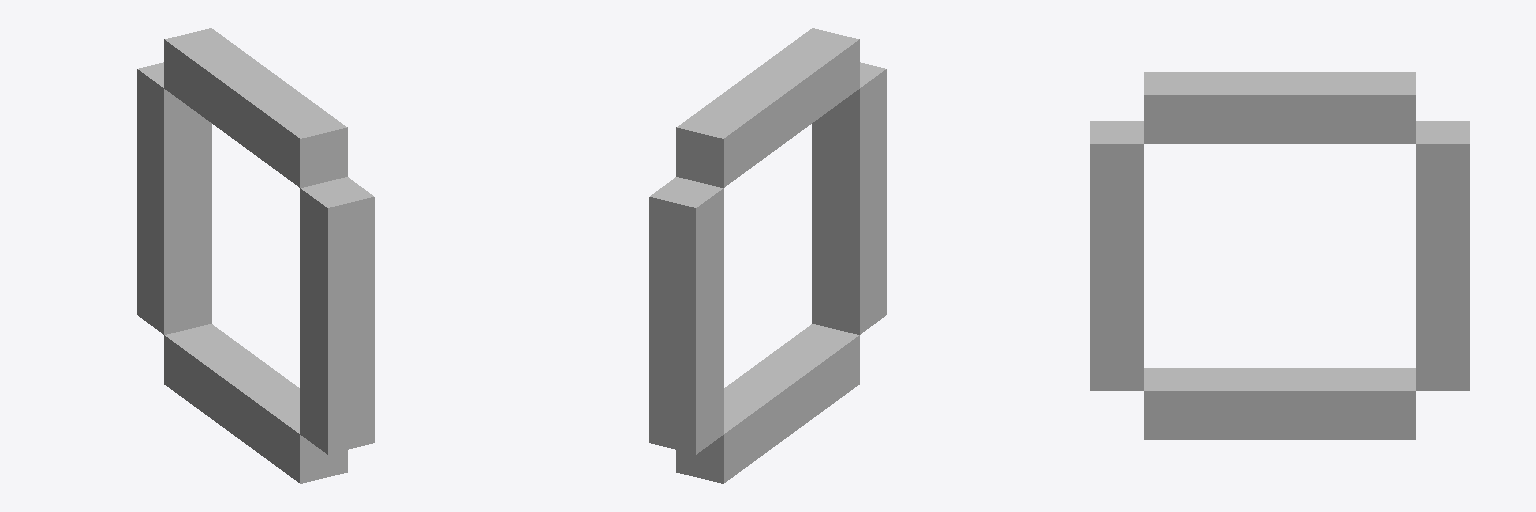
Rendered from SL_LanternLoop.obj.
3 renders of one model, left to right at view 1: azimuth 30°, elevation 25°; view 2: azimuth 150°, elevation 25°; view 3: azimuth 270°, elevation 25°, orthographic.
Visible parts, largest first — view 1: SL_LanternLoop; view 2: SL_LanternLoop; view 3: SL_LanternLoop.
Part boxes in pixels (x1,y1,x2,y2): SL_LanternLoop: (137, 28, 374, 483); SL_LanternLoop: (649, 28, 886, 483); SL_LanternLoop: (1090, 72, 1469, 439).
Bounding box in the file's own units: 1 × 7 × 7.